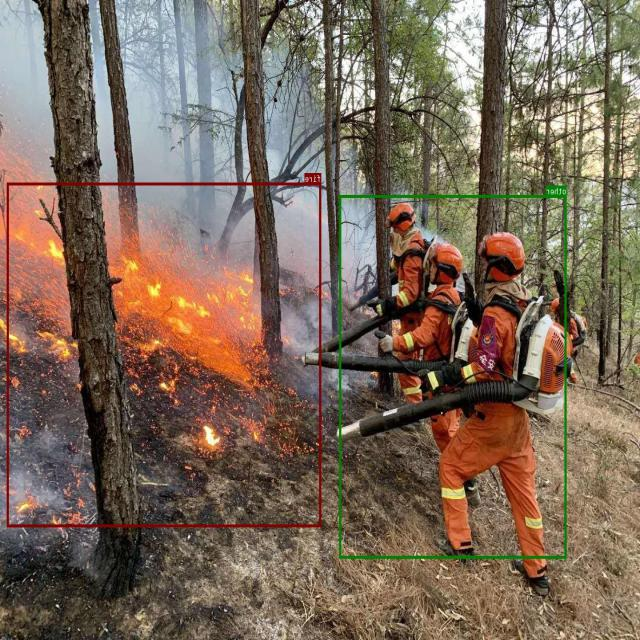fire: (7, 183, 322, 526)
other: (339, 195, 566, 558)
